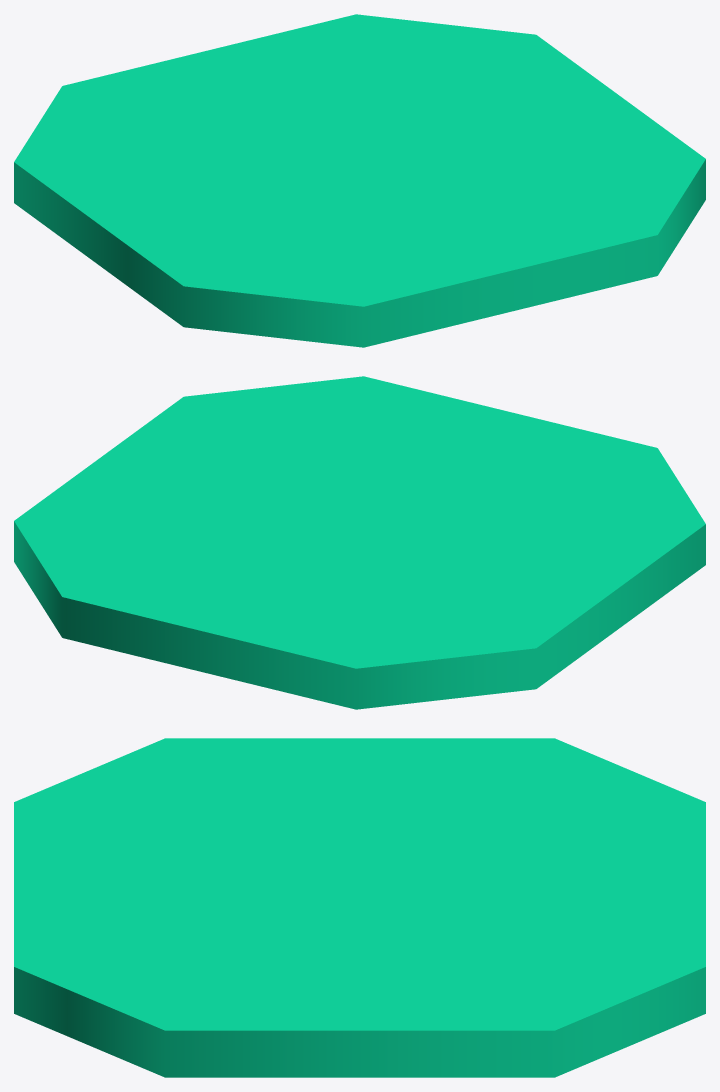
The model's file is Octagon.fbx.
3 views of the same model, one above another, from view 1: azimuth 30°, elevation 25°; view 2: azimuth 150°, elevation 25°; view 3: azimuth 270°, elevation 25° (orthographic). The views are drawn at different scales.
Parts seen in each view (by area): view 1: Fountain Water; view 2: Fountain Water; view 3: Fountain Water.
Boxes of the visible parts, x1,y1,x2,y2 form: Fountain Water: [14, 14, 705, 347]; Fountain Water: [14, 376, 705, 709]; Fountain Water: [14, 738, 705, 1077].
Size of the model in its own units: 1062 by 79.58 by 1062.
